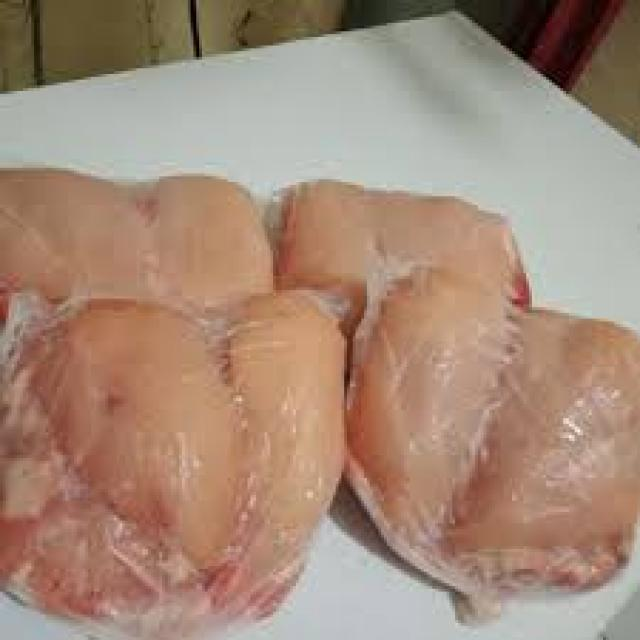Chicken: (0, 293, 338, 637), (365, 278, 640, 632), (0, 163, 285, 292), (291, 186, 549, 279)
